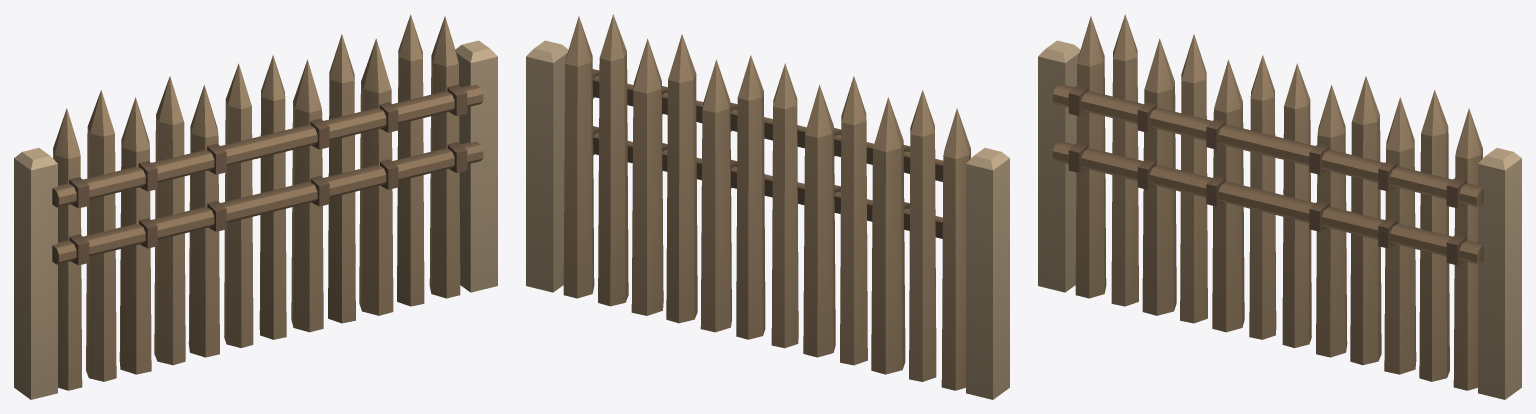
Rendered from palisade.glb.
The picture shows the model from 3 angles, left to right: view 1: azimuth 30°, elevation 25°; view 2: azimuth 150°, elevation 25°; view 3: azimuth 330°, elevation 25°; orthographic projection.
Visible parts, largest first — view 1: palisade.001; view 2: palisade.001; view 3: palisade.001.
Part boxes in pixels (<box>): palisade.001: <box>14,14,497,399</box>; palisade.001: <box>526,14,1009,399</box>; palisade.001: <box>1038,14,1521,399</box>.
Bounding box in the file's own units: 2.4 × 1.4 × 0.2339.
